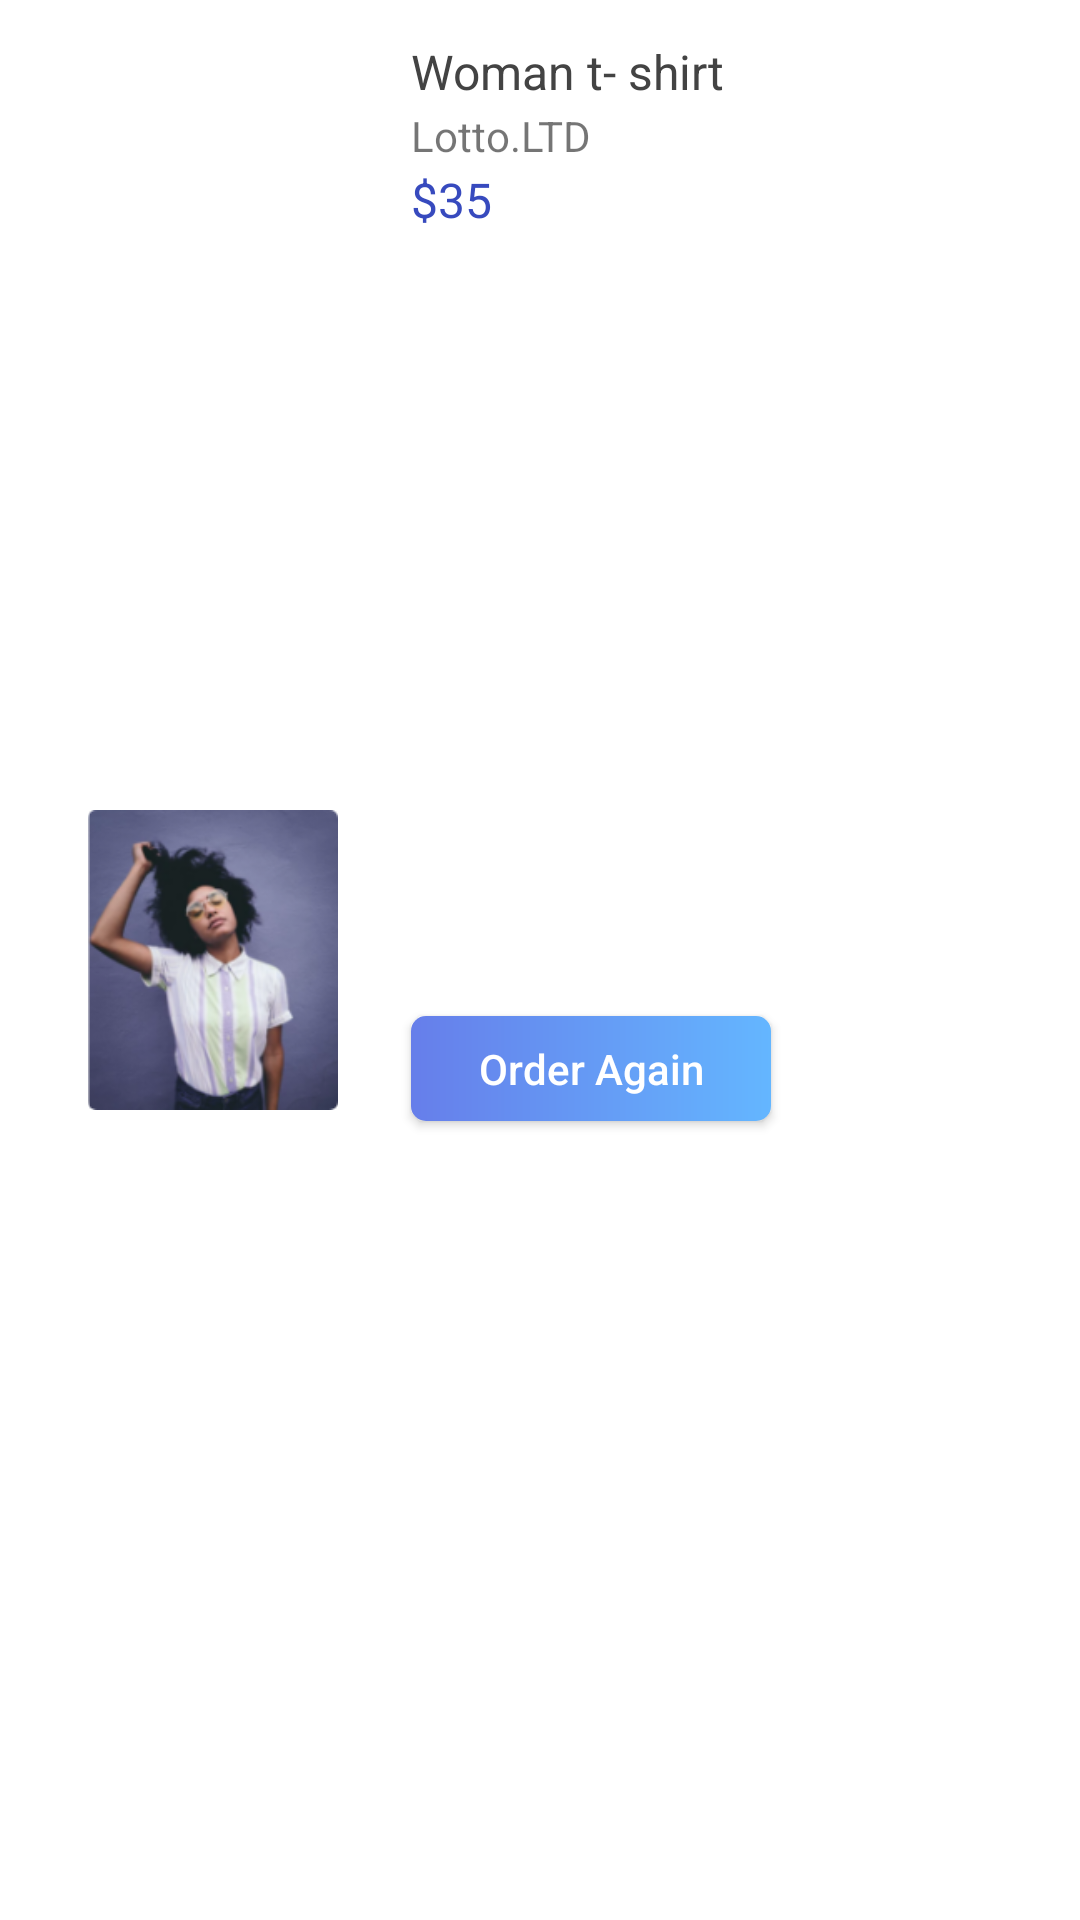

Icons on this 1080 x 1920 Android screen, each with the point to tap as (x=x, y=y):
itemphoto: (x=213, y=960)
